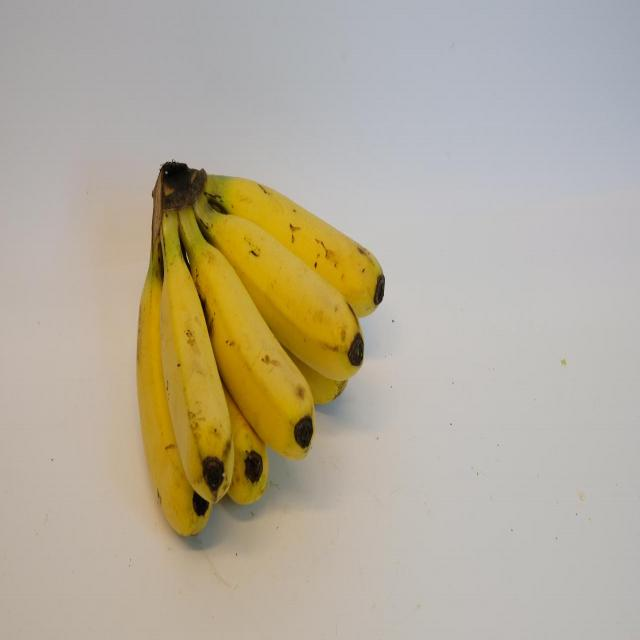banana: (187, 227, 317, 470), (203, 199, 365, 380), (209, 169, 384, 321), (126, 267, 204, 540), (157, 256, 239, 514)
